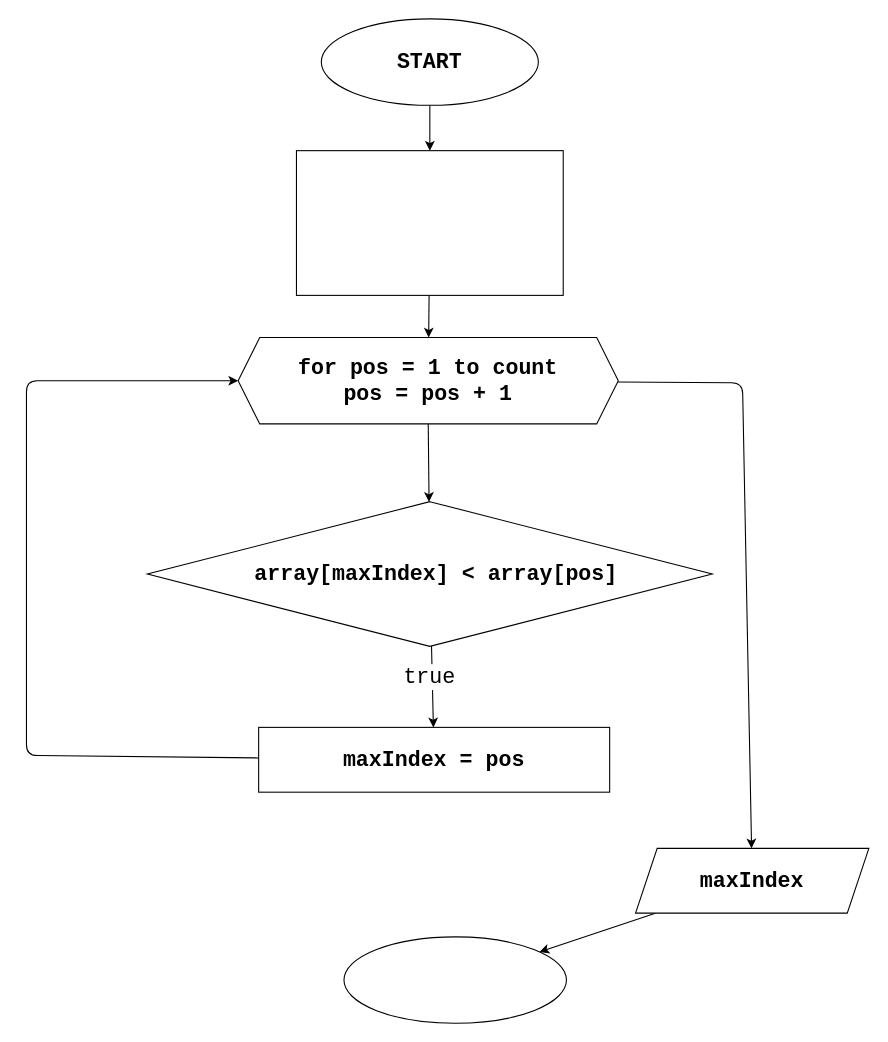
This 888x1042 diagram has some shape labels left out. Each missing label, with the centre of its shape:
"count = 10 array = new[count] maxIndex = 0" belongs at [429,222].
"END" belongs at [454,979].
